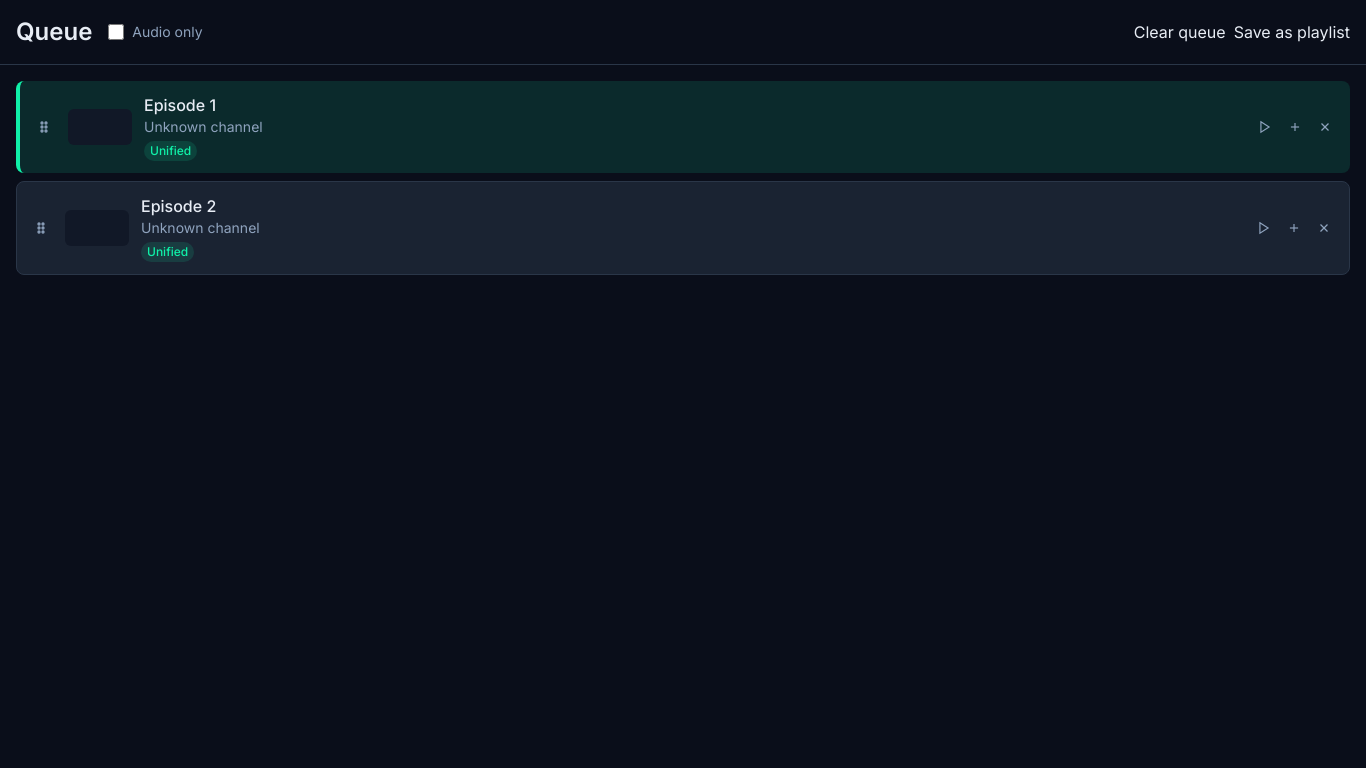
Scenario: QueueScreen clear-queue confirmation (F05-H1 step 5) › asks for confirmation before clearing, naming the item count
Click the button "Clear queue": (1180, 32) [1134,20,1226,44]
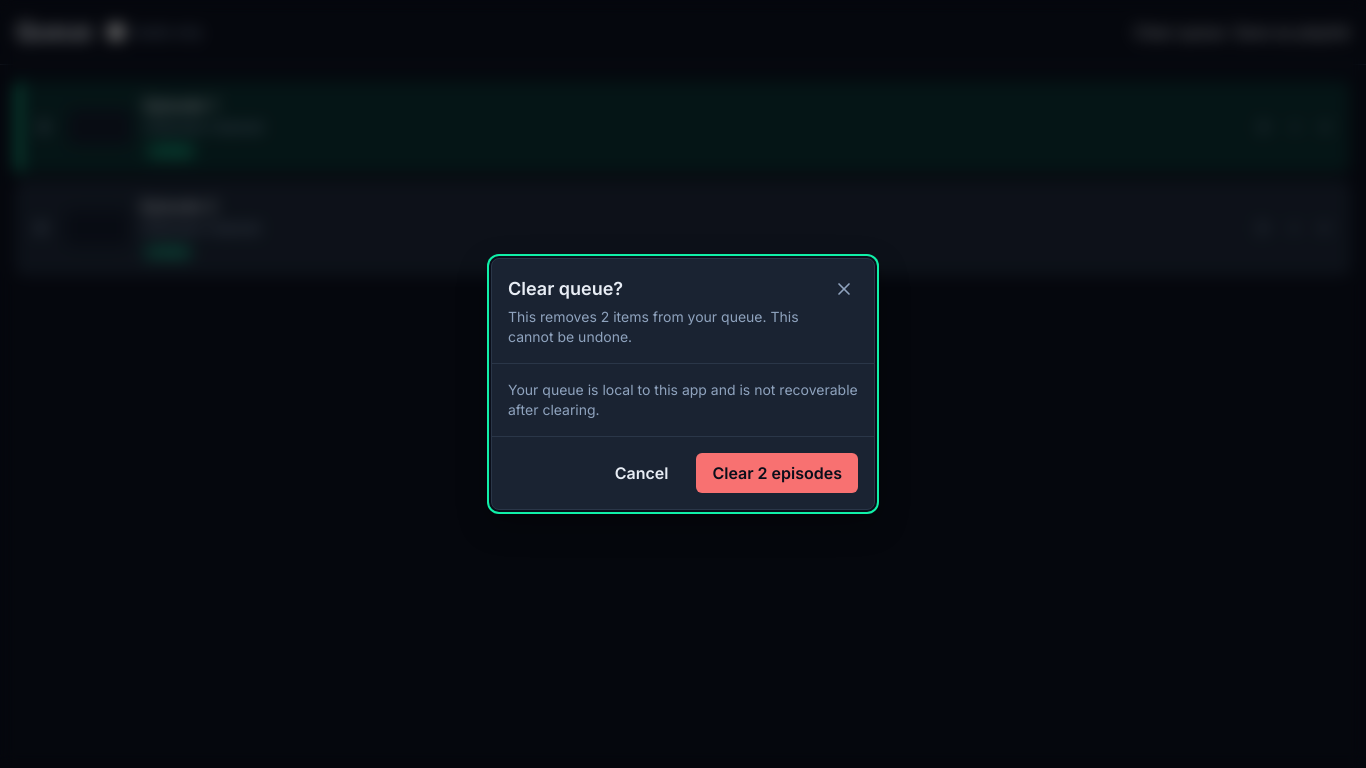
Expected: the heading "Clear queue?" is shown, [508,278,623,299]
Expected: the button "Clear 2 episodes" is shown, [696,453,858,493]
